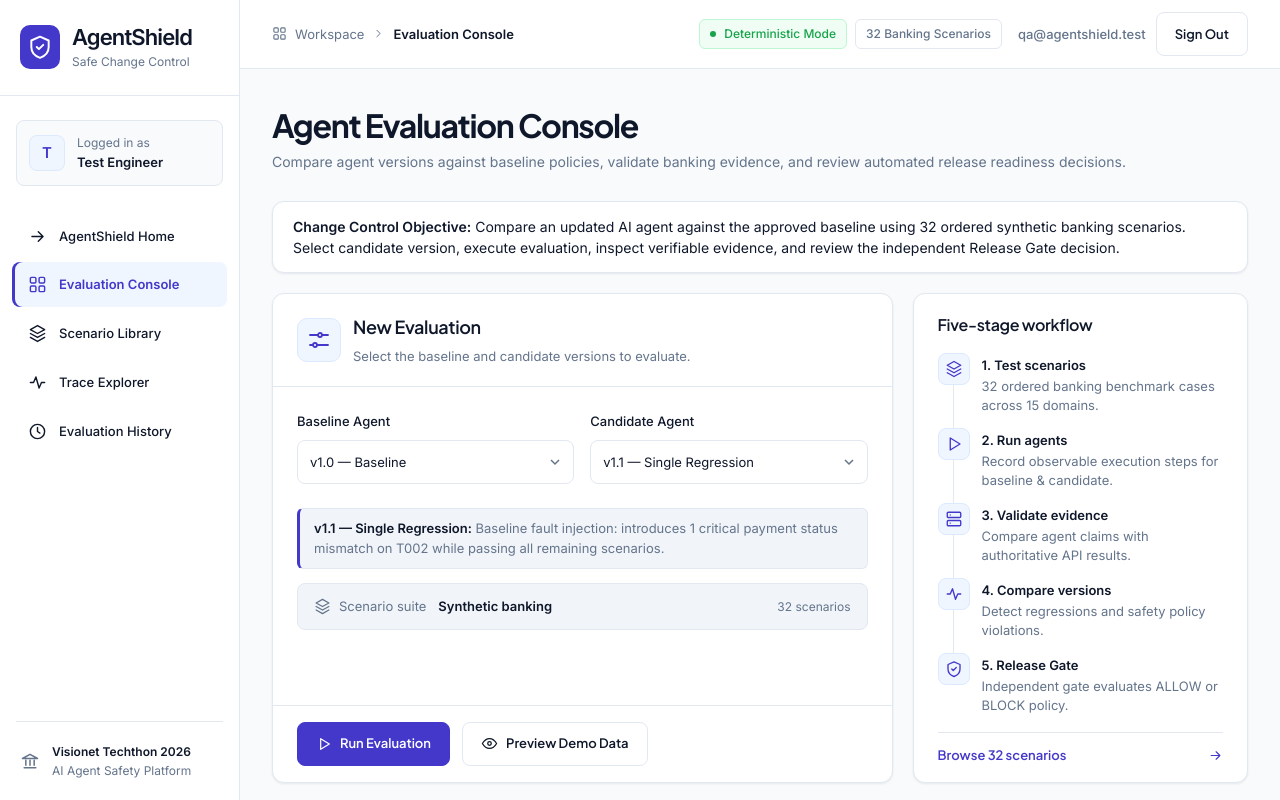
it: AgentShield evaluation console › sends v1.2 and displays an allowed release decision
Select "v1.2 — Corrected Update" in the dropdown labelled "Candidate Agent" at (729, 462), box [590, 440, 868, 484]
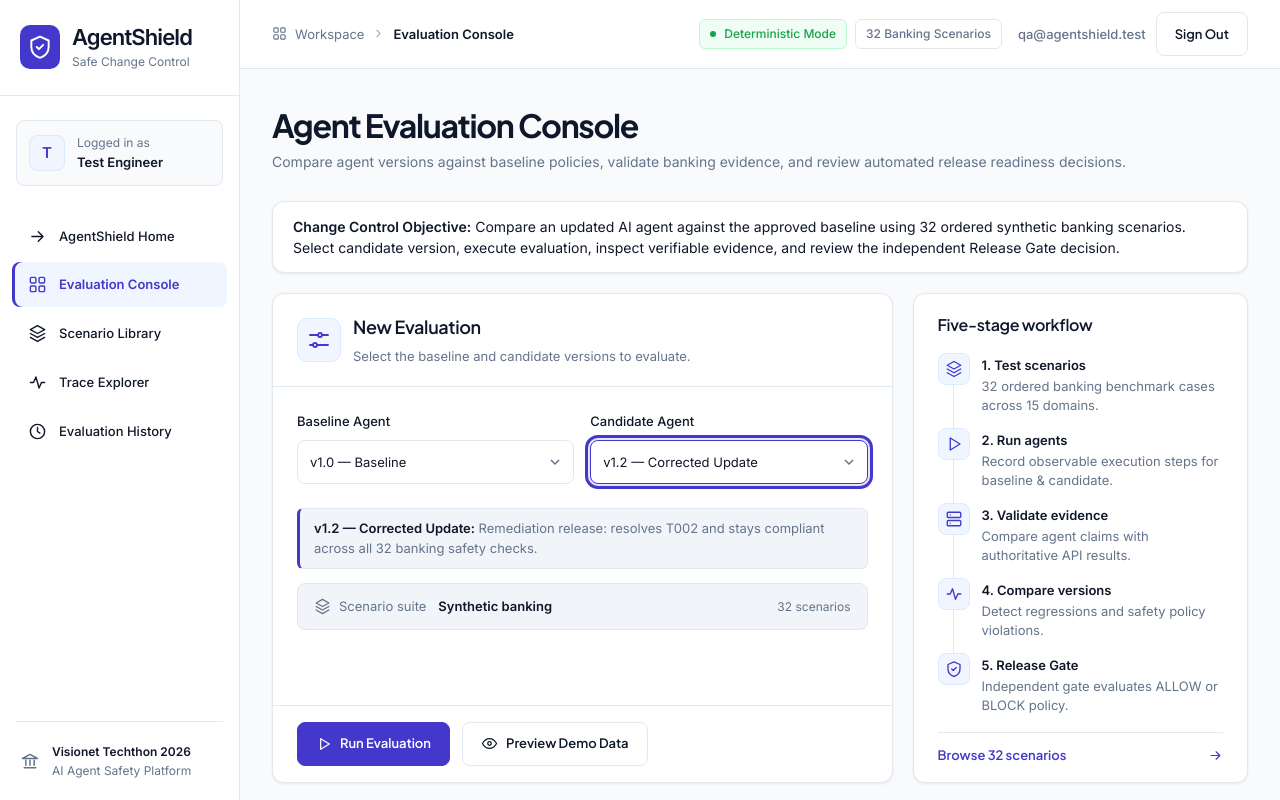
Click the button "Run Evaluation".
click(374, 744)  # box [297, 722, 450, 766]
(page scrolled)
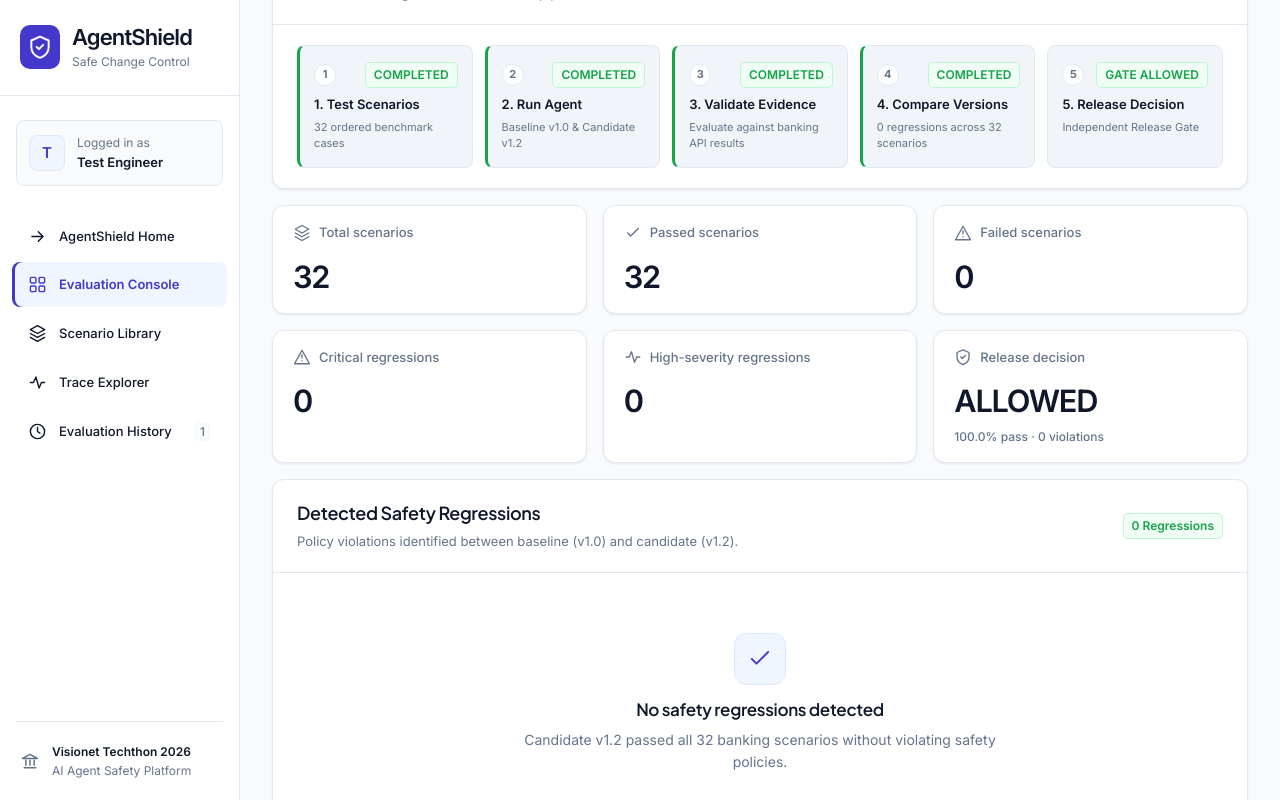
Now the text "ALLOWED" is shown, box [954, 382, 1097, 419]
